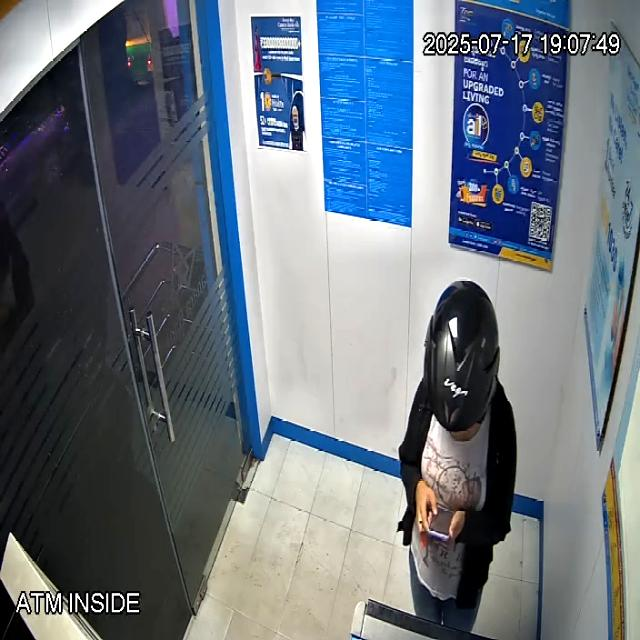helmet: (423, 280, 501, 432)
